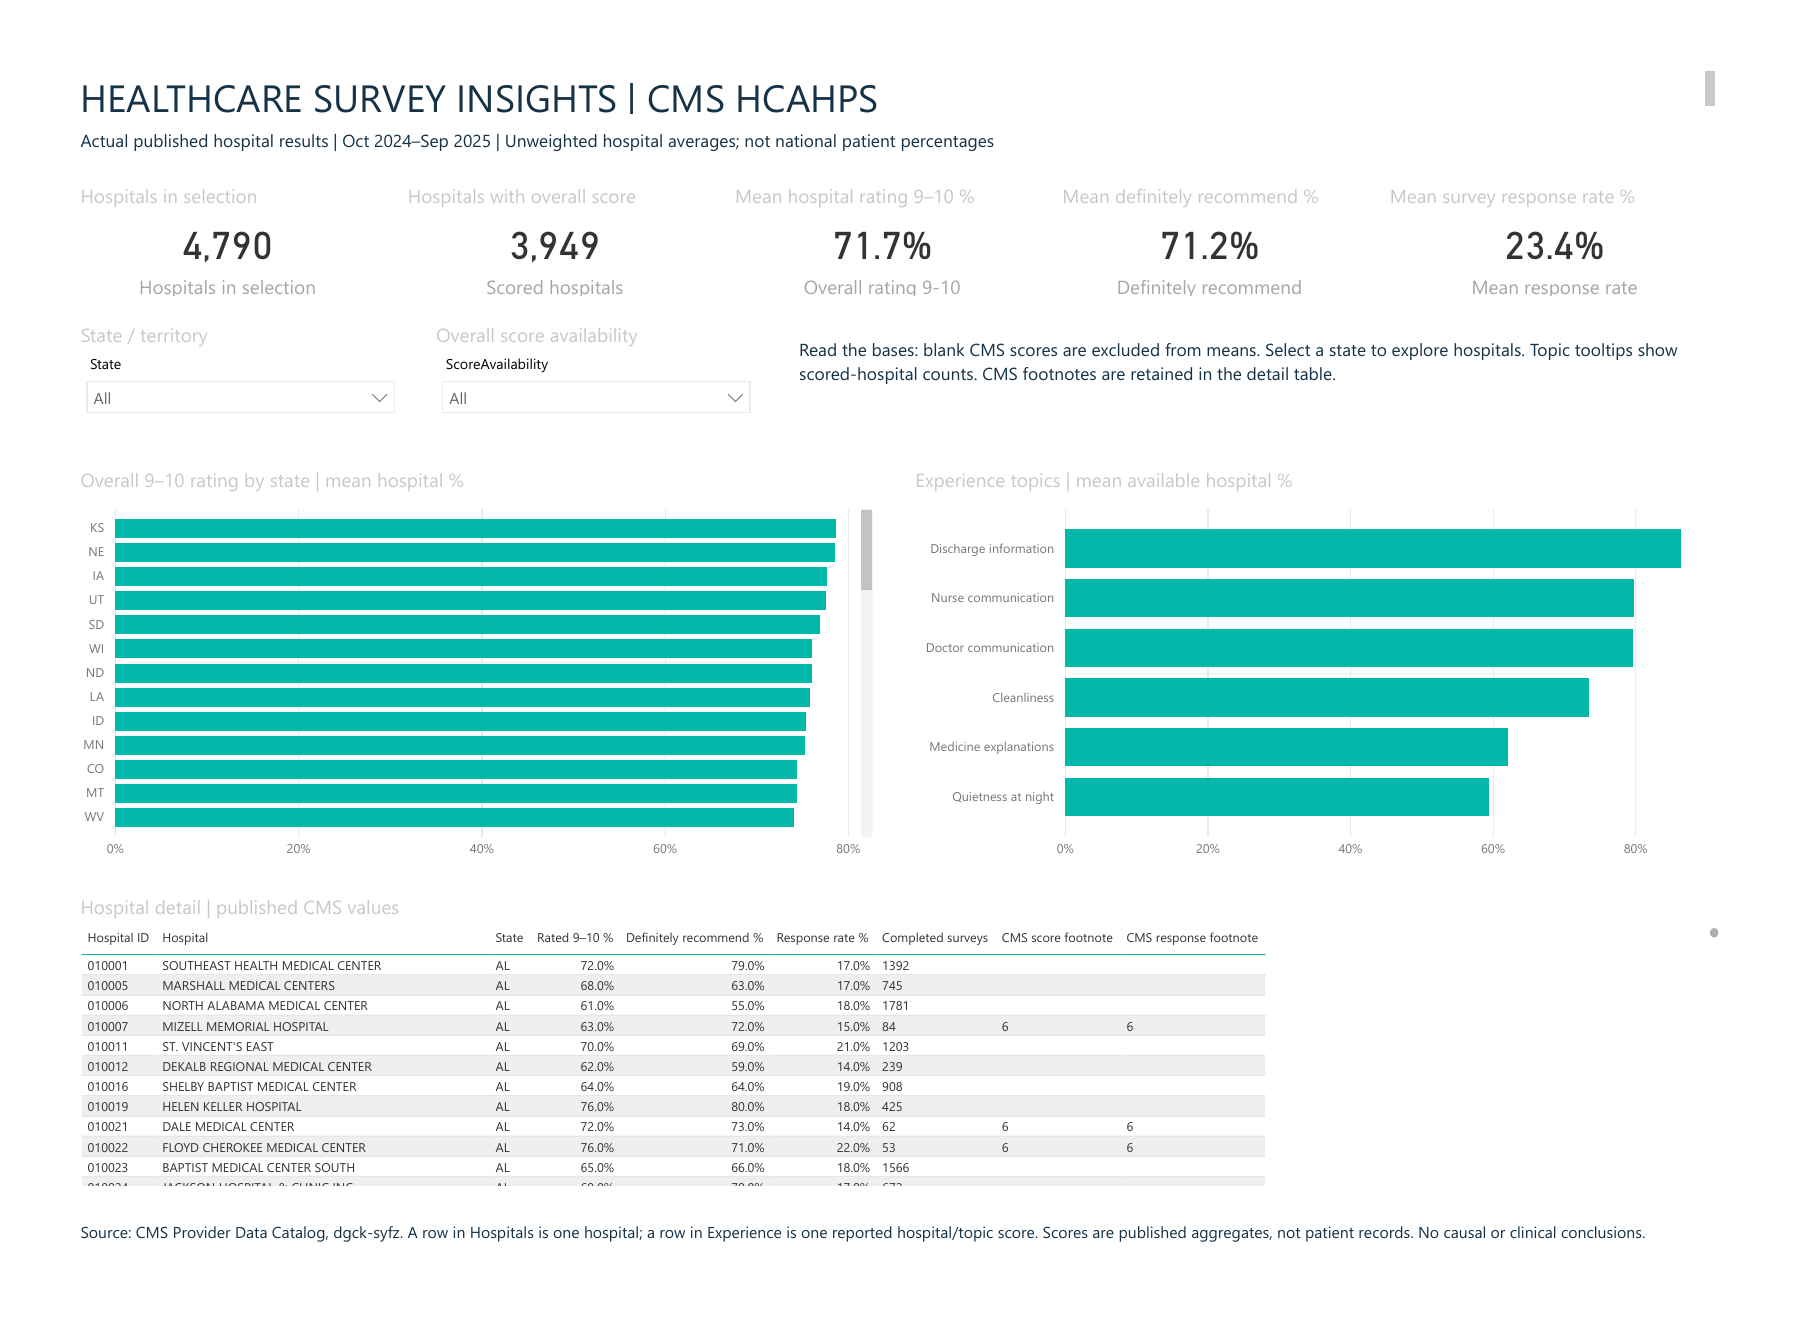

This screenshot's page, from the dashboard's own definition file:
{"tool":"powerbi","page":{"name":"Hospital survey overview","canvas":[1440,1050],"ordinal":0},"visuals":[{"type":"textbox","box":[24,10,1388,46],"z":1},{"type":"textbox","box":[24,59,1388,42],"z":2},{"type":"card","title":"Hospitals in selection","fields":{"Values":["Hospitals.Hospitals in selection"]},"box":[24,110,258,100],"z":3},{"type":"card","title":"Hospitals with overall score","fields":{"Values":["Hospitals.Scored hospitals"]},"box":[300,110,258,100],"z":4},{"type":"card","title":"Mean hospital rating 9–10 %","fields":{"Values":["Hospitals.Overall rating 9-10"]},"box":[576,110,258,100],"z":5},{"type":"card","title":"Mean definitely recommend %","fields":{"Values":["Hospitals.Definitely recommend"]},"box":[852,110,258,100],"z":6},{"type":"card","title":"Mean survey response rate %","fields":{"Values":["Hospitals.Mean response rate"]},"box":[1128,110,288,100],"z":7},{"type":"slicer","title":"State / territory","fields":{"Values":["Hospitals.State"]},"box":[24,227,280,104],"z":8},{"type":"slicer","title":"Overall score availability","fields":{"Values":["Hospitals.ScoreAvailability"]},"box":[324,227,280,104],"z":9},{"type":"textbox","box":[630,235,780,90],"z":10},{"type":"clusteredBarChart","title":"Overall 9–10 rating by state | mean hospital %","fields":{"Category":["Hospitals.State"],"Y":["Hospitals.Overall rating 9-10"]},"box":[24,350,678,338],"z":11},{"type":"clusteredBarChart","title":"Experience topics | mean available hospital %","fields":{"Category":["Experience.Topic"],"Y":["Experience.Mean topic score"]},"box":[728,350,688,338],"z":12},{"type":"tableEx","title":"Hospital detail | published CMS values","fields":{"Values":["Hospitals.HospitalID","Hospitals.HospitalName","Hospitals.State","Hospitals.OverallRatingPct","Hospitals.RecommendPct","Hospitals.ResponseRatePct","Hospitals.CompletedSurveysText","Hospitals.OverallRatingFootnote","Hospitals.ResponseRateFootnote"]},"box":[24,710,1392,250],"z":13},{"type":"textbox","box":[24,980,1392,60],"z":14}]}

Visuals, with their boxes in screenshot pixels (x1, y1, x2, y2), scaled from the page's 1440x1050 canvas onto the 1800x1328 screenshot:
textbox: crop(30, 13, 1765, 71)
textbox: crop(30, 75, 1765, 128)
"Hospitals in selection" card: crop(30, 139, 352, 266)
"Hospitals with overall score" card: crop(375, 139, 698, 266)
"Mean hospital rating 9–10 %" card: crop(720, 139, 1042, 266)
"Mean definitely recommend %" card: crop(1065, 139, 1388, 266)
"Mean survey response rate %" card: crop(1410, 139, 1770, 266)
"State / territory" slicer: crop(30, 287, 380, 419)
"Overall score availability" slicer: crop(405, 287, 755, 419)
textbox: crop(788, 297, 1762, 411)
"Overall 9–10 rating by state | mean hospital %" clusteredBarChart: crop(30, 443, 878, 870)
"Experience topics | mean available hospital %" clusteredBarChart: crop(910, 443, 1770, 870)
"Hospital detail | published CMS values" tableEx: crop(30, 898, 1770, 1214)
textbox: crop(30, 1239, 1770, 1315)
